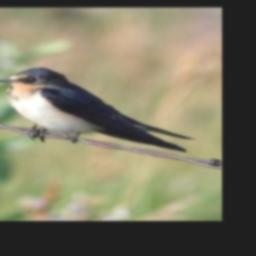Swallow: (0, 65, 195, 156)
